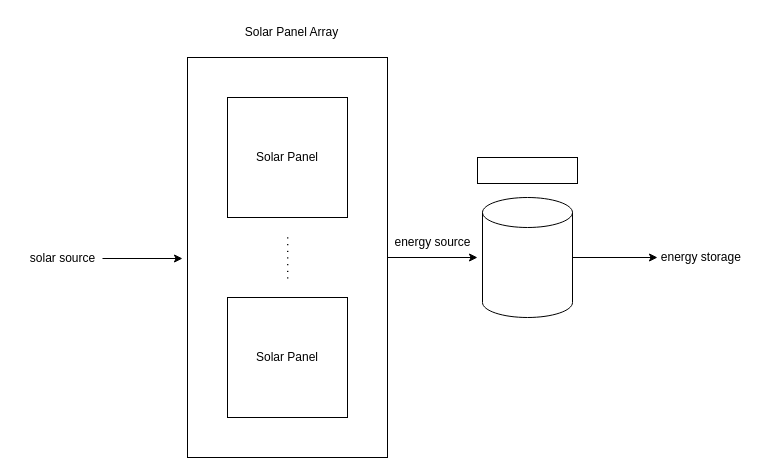
The diagram is 774 pixels wide and 475 high, and some of its shapes have lost their labels. The centre of each missing label's shape, as x and y in pixels:
"Battery" goes at point (527, 257).
"Level indicator" goes at point (527, 170).
